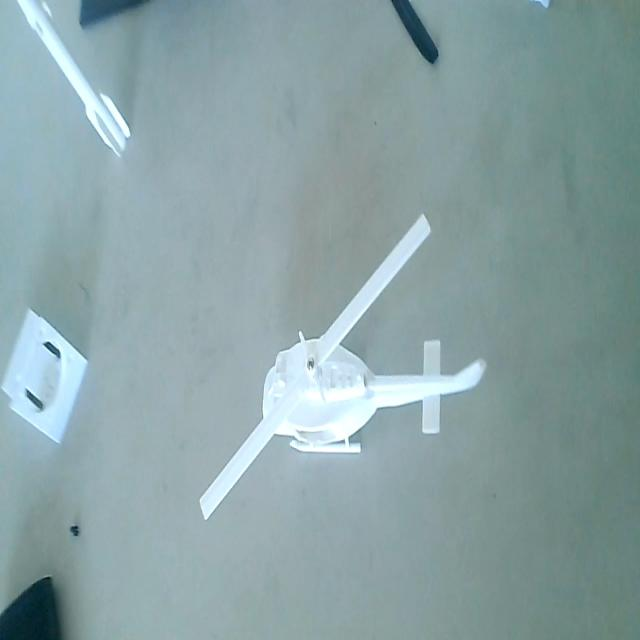Helicopter: (196, 202, 487, 550)
Rocket: (13, 0, 137, 167)
